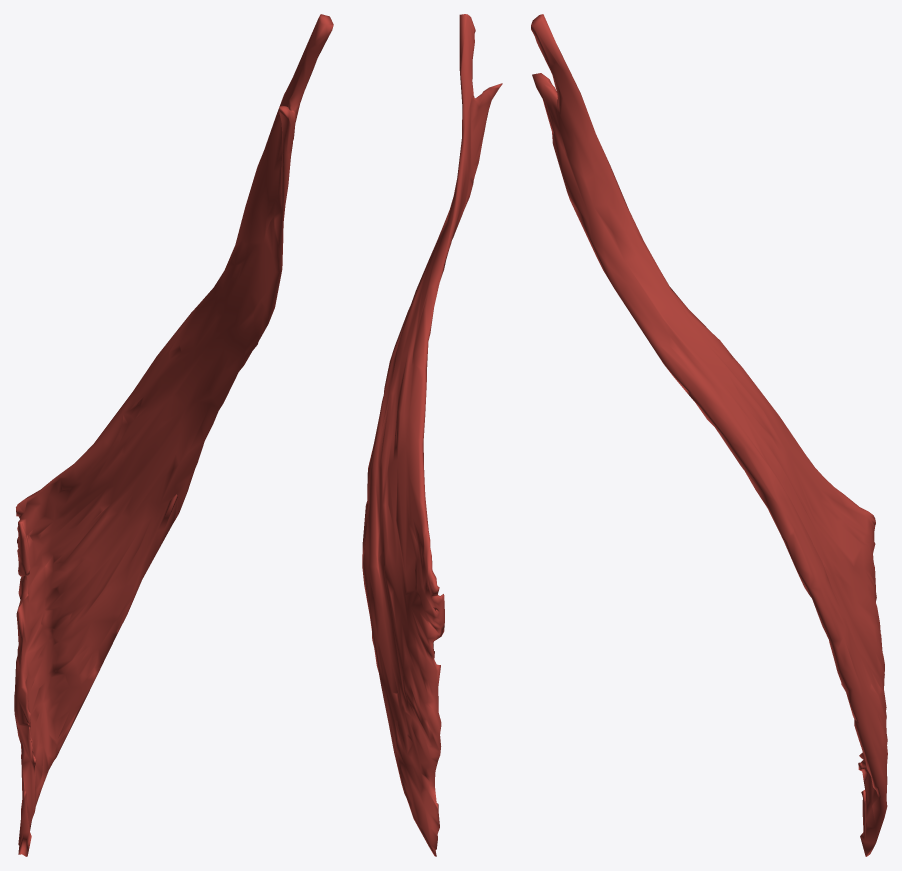
Rendered from musculos-splenius-colli-muscle-l.glb.
3 views of the same model, side by side, from view 1: azimuth 30°, elevation 25°; view 2: azimuth 150°, elevation 25°; view 3: azimuth 270°, elevation 25° (orthographic). The views are drawn at different scales.
Visible parts, largest first — view 1: Splenius colli muscle.l; view 2: Splenius colli muscle.l; view 3: Splenius colli muscle.l.
Part boxes in pixels (box(x1,y1,x2,y2)): Splenius colli muscle.l: box(14, 14, 333, 856); Splenius colli muscle.l: box(362, 14, 502, 856); Splenius colli muscle.l: box(531, 14, 887, 856).
Bounding box in the file's own units: 0.0437 × 0.2575 × 0.0922.
